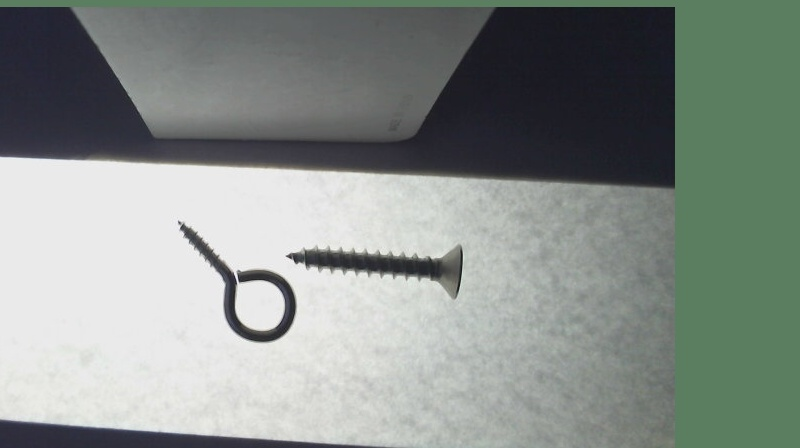O001: (175, 218, 295, 342)
S001: (283, 241, 463, 299)
